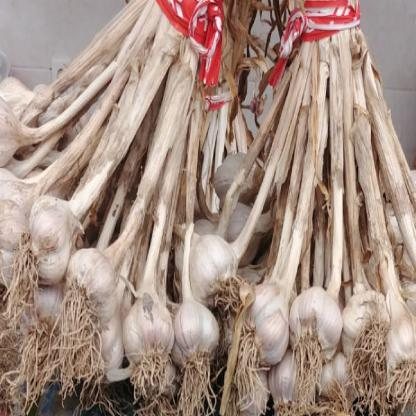garlic: (246, 276, 295, 374), (29, 190, 77, 288), (290, 274, 338, 366), (172, 290, 221, 376), (72, 240, 119, 324), (190, 236, 236, 316), (1, 78, 34, 170), (6, 167, 29, 282), (390, 288, 415, 388), (127, 308, 172, 358), (349, 286, 385, 343)
